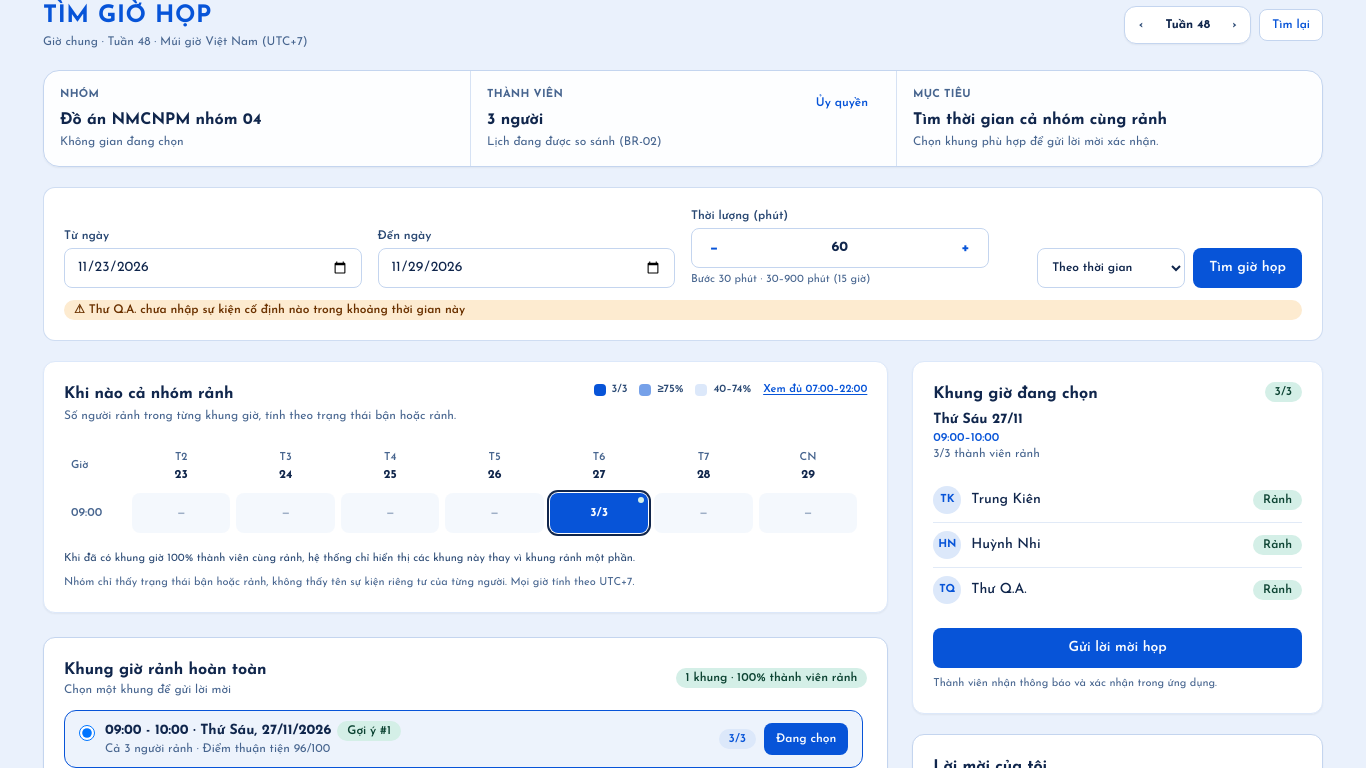
Test: MeetingsPage (TV4) › POST tạo đề xuất 201 nhưng tải lại danh sách lỗi: vẫn đóng modal và không báo lỗi gửi
Click the button "Gửi lời mời họp" at (1118, 648), box x1=933 y1=628 x2=1302 y2=668
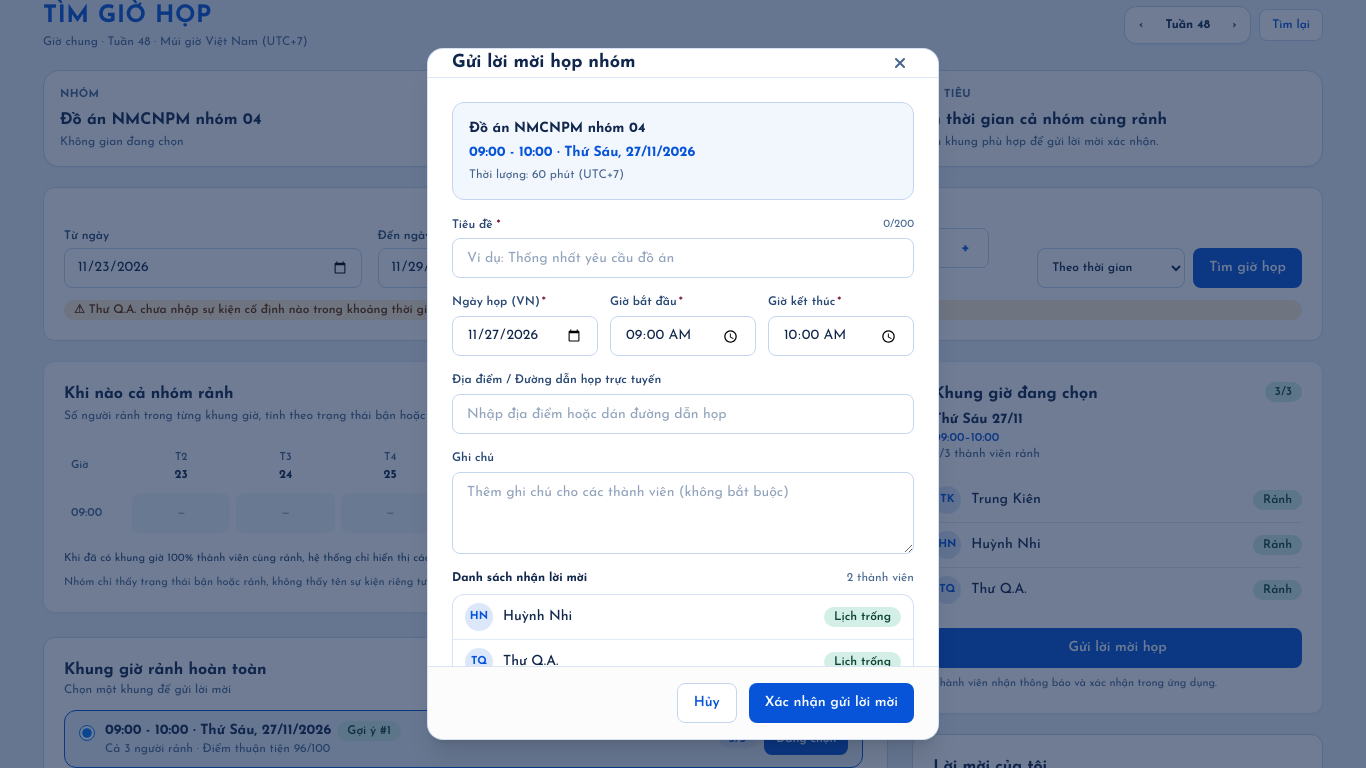
Type "Họp Sprint 2" into the field labelled "Tiêu đề *" at (683, 258), box x1=452 y1=238 x2=914 y2=278
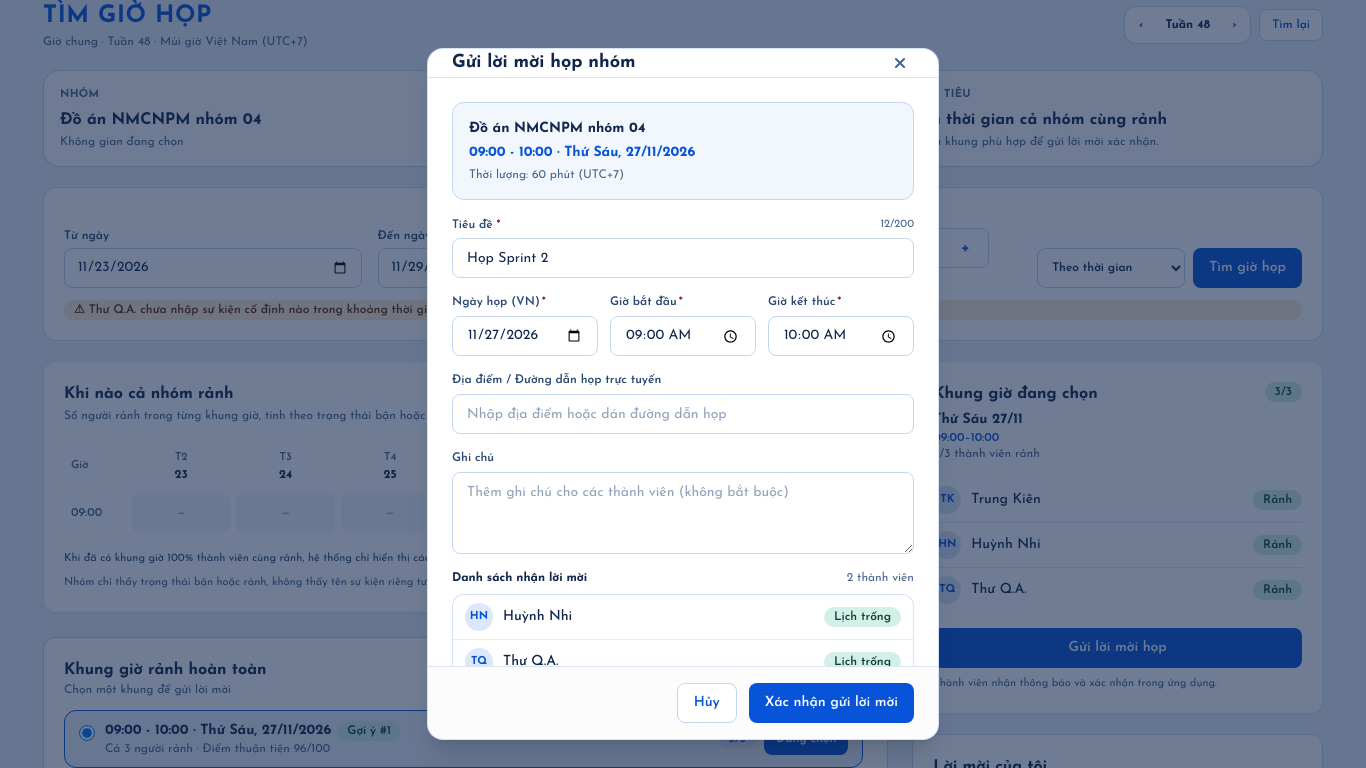
Click the button "Xác nhận gửi lời mời" at (831, 703), box x1=749 y1=683 x2=914 y2=723
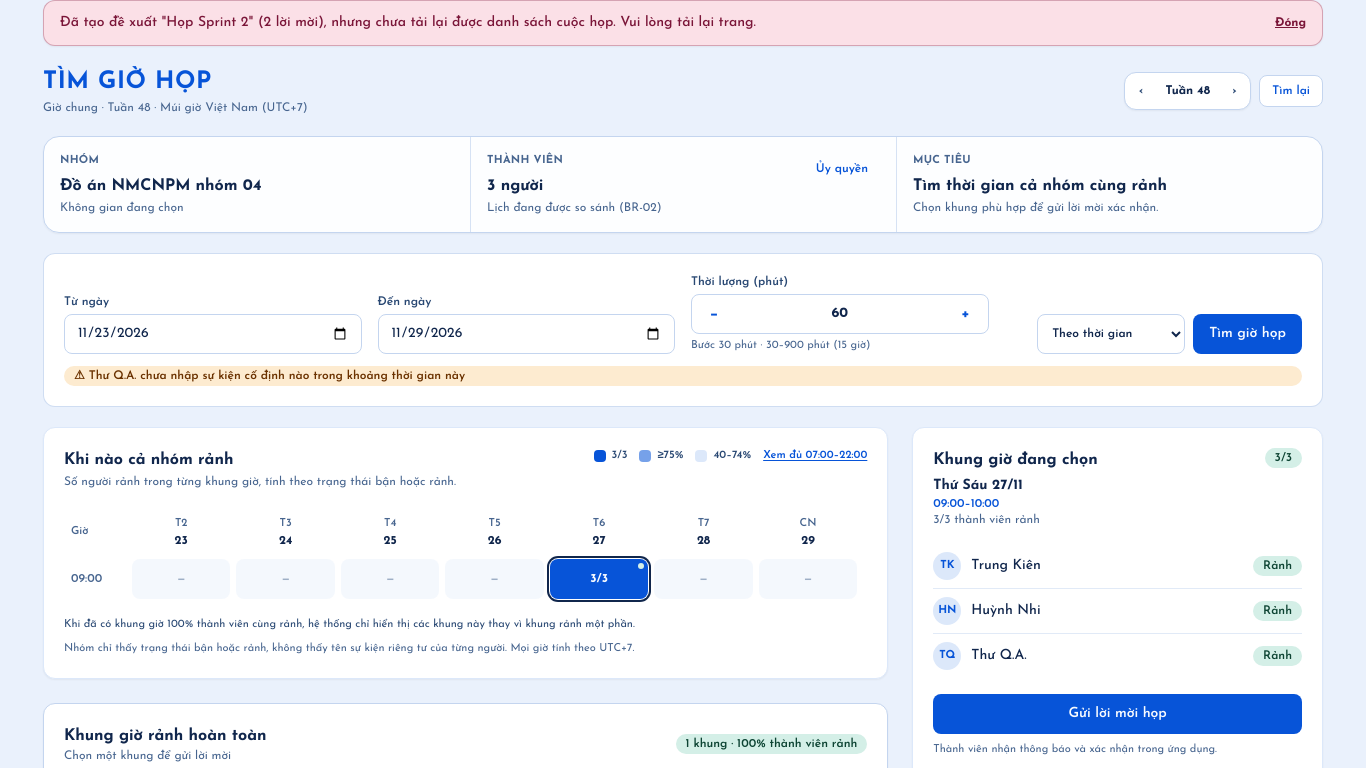
Expected: the dialog is gone
